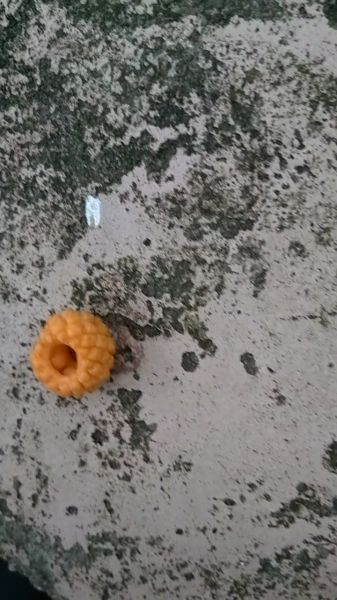eggs: (27, 307, 116, 399)
